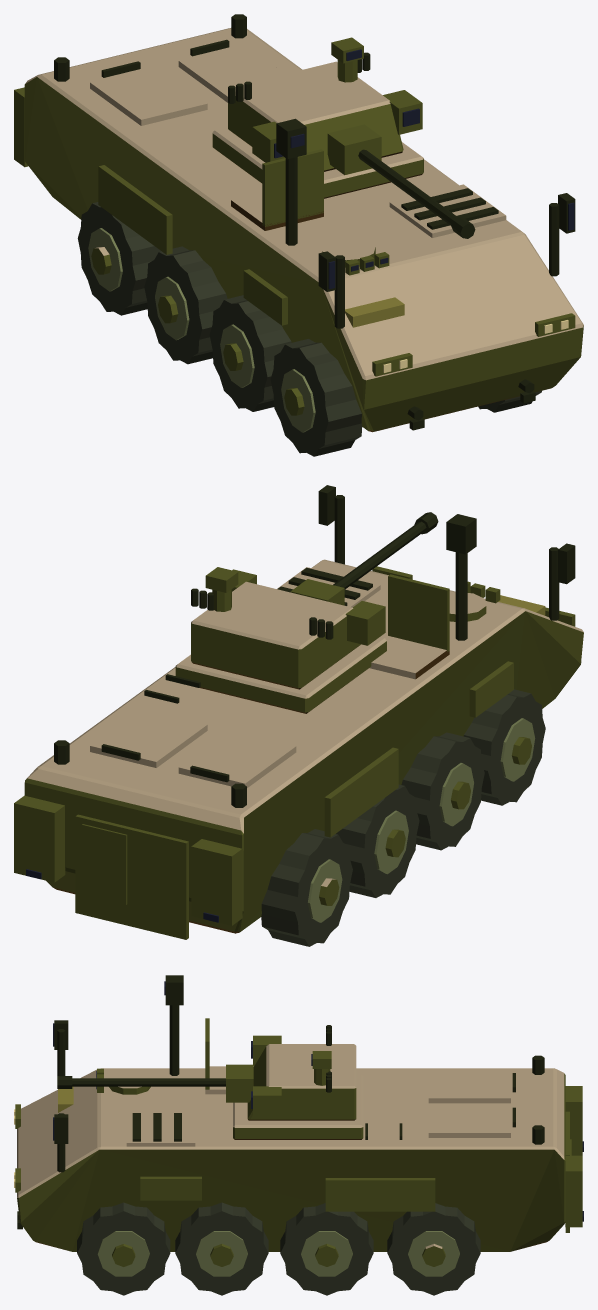
File: SM_VCR_Dragon_v5.fbx
3 renders of one model, top to bottom at view 1: azimuth 30°, elevation 25°; view 2: azimuth 150°, elevation 25°; view 3: azimuth 270°, elevation 25°, orthographic. The views are drawn at different scales.
Parts seen in each view (by area): view 1: SM_VCR_Dragon_v5; view 2: SM_VCR_Dragon_v5; view 3: SM_VCR_Dragon_v5.
Part boxes in pixels (x1,y1,x2,y2): SM_VCR_Dragon_v5: (14,14,583,456); SM_VCR_Dragon_v5: (14,485,583,946); SM_VCR_Dragon_v5: (14,975,583,1295).
Size of the model in its own units: 3.36 by 3.87 by 8.31.
